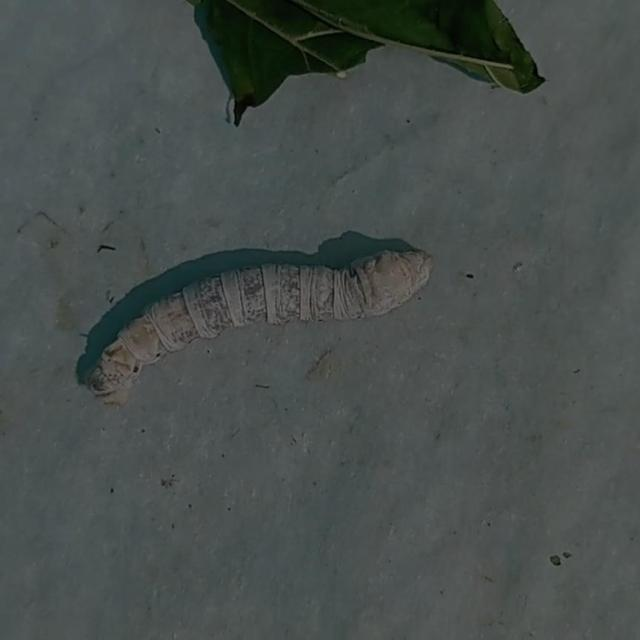Grasserie: (63, 194, 464, 425)
